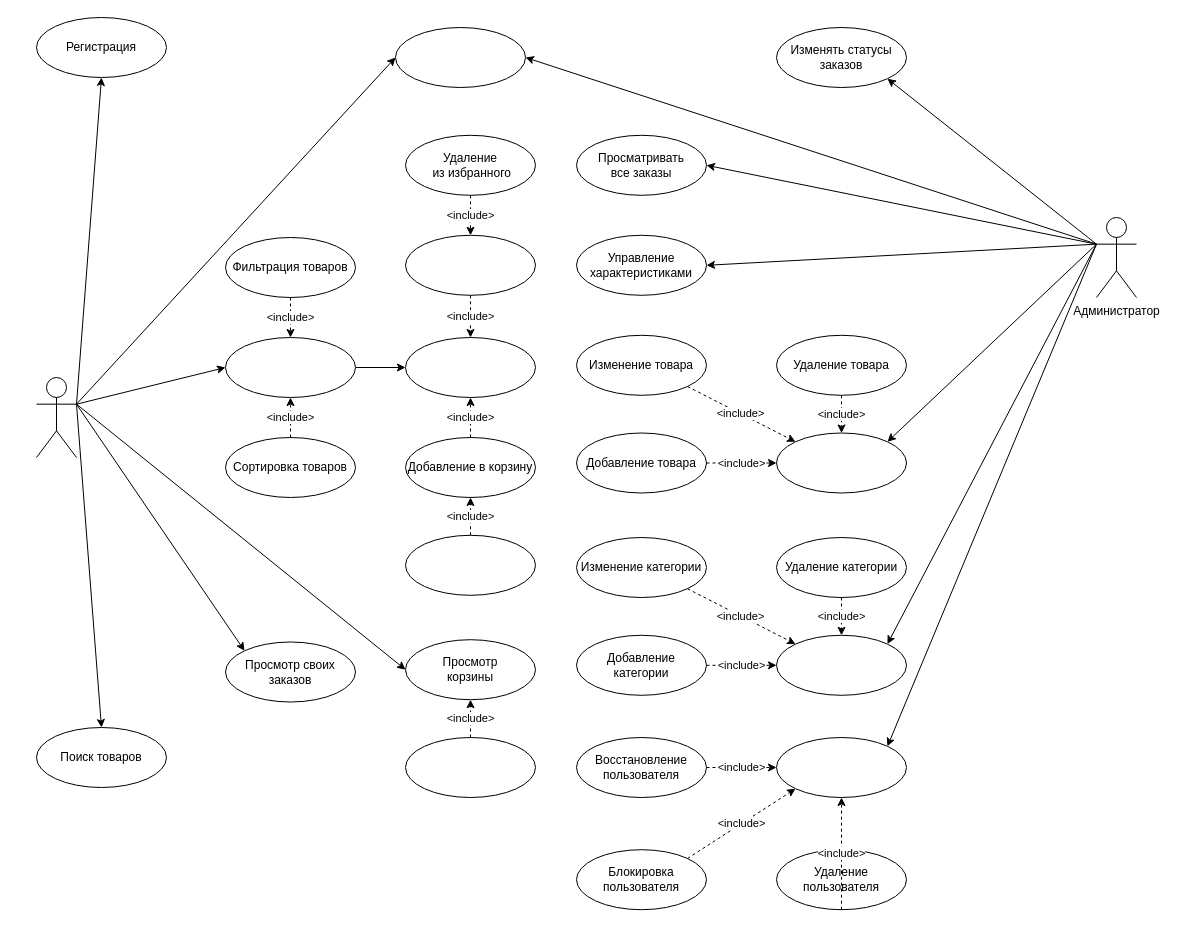
This 1177x936 diagram has some shape labels left out. The shapes that lost their labels are listed below. From the top down, each one's box as (x1, y1, x2, y2) in pixels, then its label:
(394, 26, 526, 88): Авторизация
(404, 234, 536, 295): Добавление в избранное
(224, 336, 356, 398): Просмотр каталога
(404, 336, 536, 398): Просмотр товара
(36, 376, 76, 458): Пользователь
(776, 432, 906, 493): Управление товарами
(404, 534, 536, 595): Удаление из корзины
(776, 634, 906, 695): Управление категориями
(404, 736, 536, 798): Оформление заказов
(776, 736, 906, 798): Управление пользователями
